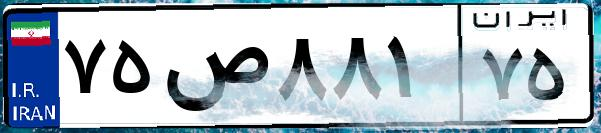1: (385, 28, 445, 110)
5: (525, 38, 570, 115), (110, 28, 158, 98)
7: (57, 26, 110, 100), (475, 38, 525, 113)
8: (270, 28, 330, 110), (330, 28, 385, 110)
ص: (158, 20, 270, 120)
